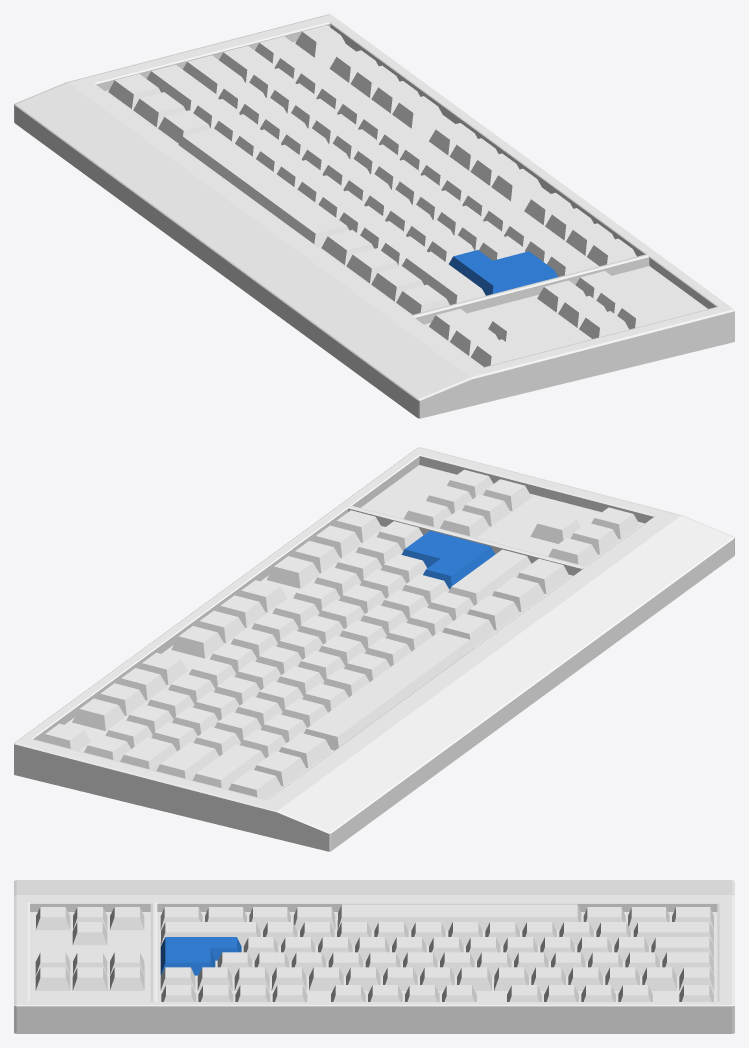
The model's file is TeclaEnter.glb.
3 renders of one model, top to bottom at view 1: azimuth 30°, elevation 25°; view 2: azimuth 150°, elevation 25°; view 3: azimuth 270°, elevation 25°, orthographic. The views are drawn at different scales.
Parts seen in each view (by area): view 1: Cube, Cube.074, Cube.083, Cube.054, Cube.066, Cube.065, Cube.053, Cube.009, Cube.001, Cube.005, Cube.041, Cube.073 (+21 smaller); view 2: Cube, Cube.074, Cube.083, Cube.054, Cube.066, Cube.065, Cube.053, Cube.041, Cube.006, Cube.010, Cube.002, Cube.072 (+21 smaller); view 3: Cube, Cube.074, Cube.083, Cube.054, Cube.066, Cube.065, Cube.053, Cube.041, Cube.078, Cube.077, Cube.076, Cube.073 (+21 smaller).
Part boxes in pixels (x1,y1,x2,y2): Cube: (14, 14, 734, 418); Cube.074: (178, 36, 572, 266); Cube.083: (537, 271, 664, 338); Cube.054: (449, 250, 557, 295); Cube.066: (402, 251, 485, 304); Cube.065: (147, 64, 218, 112); Cube.053: (183, 55, 244, 97); Cube.009: (491, 168, 544, 201); Cube.001: (295, 25, 348, 57); Cube.005: (392, 96, 445, 128); Cube.041: (219, 46, 274, 82); Cube.073: (321, 229, 374, 265); Cube: (14, 447, 734, 851); Cube.074: (84, 536, 474, 761); Cube.083: (403, 469, 531, 537); Cube.054: (401, 530, 495, 589); Cube.066: (448, 549, 531, 605); Cube.065: (192, 744, 265, 789); Cube.053: (156, 742, 219, 780); Cube.041: (120, 737, 176, 770); Cube.006: (171, 626, 224, 658); Cube.010: (266, 556, 319, 588); Cube.002: (72, 698, 125, 730); Cube.072: (467, 595, 519, 630); Cube: (14, 880, 734, 1033); Cube.074: (197, 904, 714, 990); Cube.083: (35, 952, 144, 990); Cube.054: (160, 937, 241, 975); Cube.066: (160, 922, 260, 945); Cube.065: (633, 922, 713, 945); Cube.053: (651, 937, 713, 960); Cube.041: (662, 952, 713, 975); Cube.078: (72, 922, 107, 945); Cube.077: (36, 907, 70, 930); Cube.076: (110, 907, 144, 930); Cube.073: (293, 907, 335, 930).
Bounding box in the file's own units: 0.9655 × 0.102 × 2.14.
